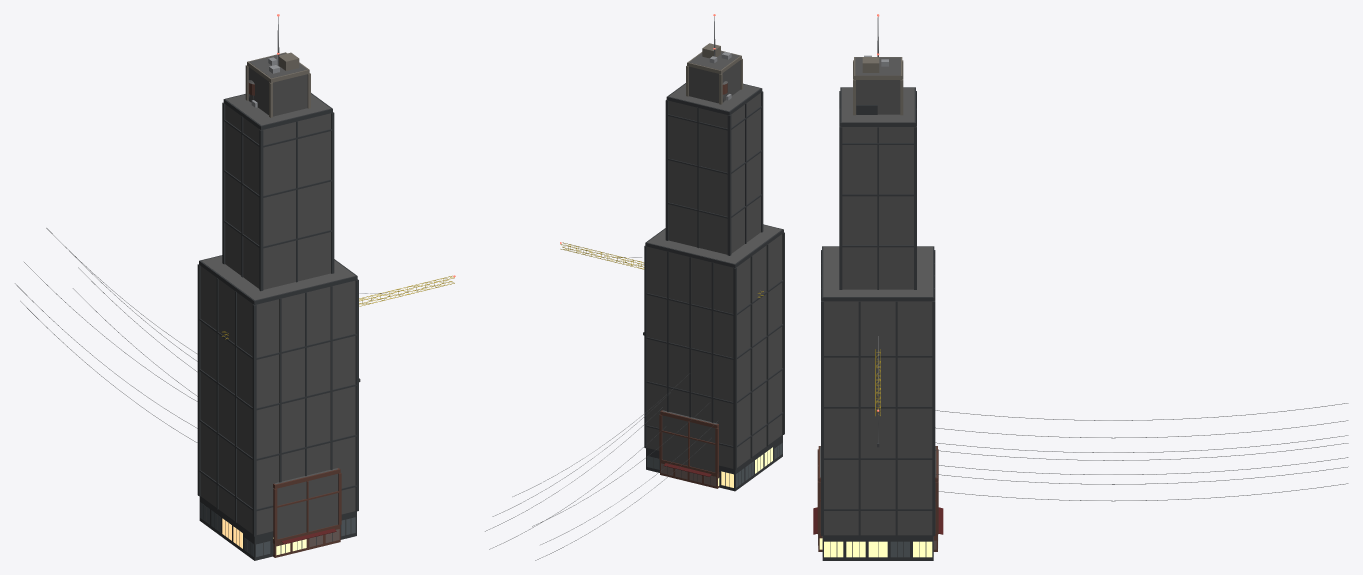
Rendered from escenario_ciudad.glb.
3 views of the same model, side by side, from view 1: azimuth 30°, elevation 25°; view 2: azimuth 150°, elevation 25°; view 3: azimuth 270°, elevation 25° (orthographic). The views are drawn at different scales.
Parts seen in each view (by area): view 1: torre_4, bajo_4, torre_6, torre_electrica, grua; view 2: torre_4, bajo_4, torre_6, torre_electrica, grua; view 3: torre_4, torre_electrica, torre_6, bajo_4.
Boxes of the visible parts, left/top/right/bottom form: torre_4: left=197, top=53, right=358, bottom=560; bajo_4: left=273, top=468, right=341, bottom=557; torre_6: left=245, top=14, right=310, bottom=117; torre_electrica: left=15, top=228, right=197, bottom=442; grua: left=222, top=275, right=455, bottom=382; torre_4: left=644, top=48, right=784, bottom=491; bajo_4: left=659, top=410, right=719, bottom=488; torre_6: left=686, top=14, right=742, bottom=104; torre_electrica: left=485, top=373, right=717, bottom=560; grua: left=560, top=242, right=763, bottom=335; torre_4: left=821, top=53, right=935, bottom=560; torre_electrica: left=935, top=403, right=1348, bottom=501; torre_6: left=853, top=14, right=903, bottom=115; bajo_4: left=813, top=446, right=943, bottom=551.
Bounding box in the file's own units: 63.49 × 135 × 125.
